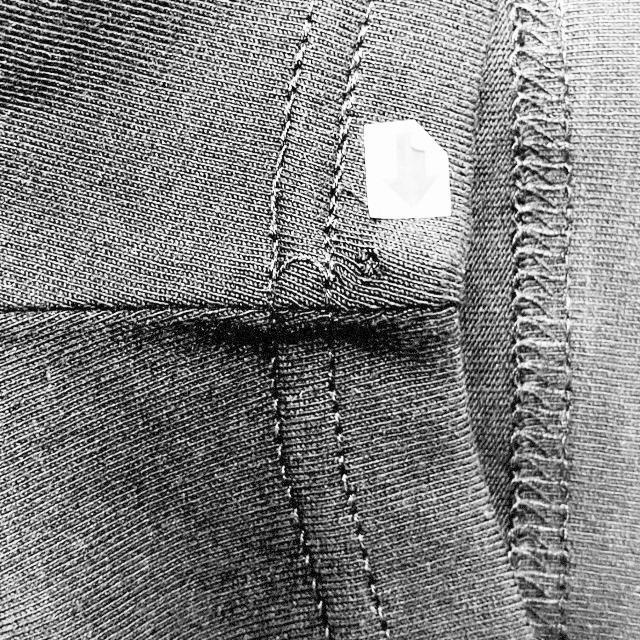Sewing_error: (262, 244, 342, 296)
